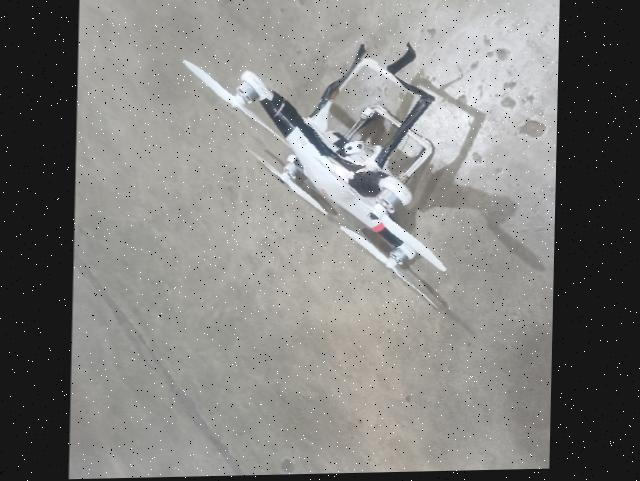drone: (171, 6, 488, 315)
